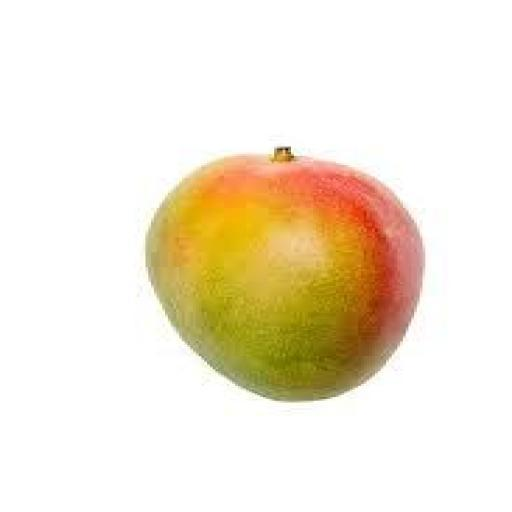mango: (146, 149, 422, 400)
